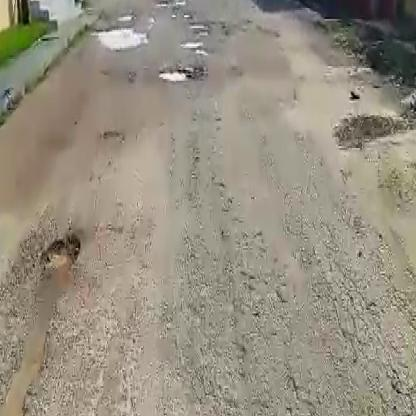pothole: (93, 23, 150, 53), (44, 234, 80, 279), (155, 67, 196, 85), (102, 129, 129, 146)
